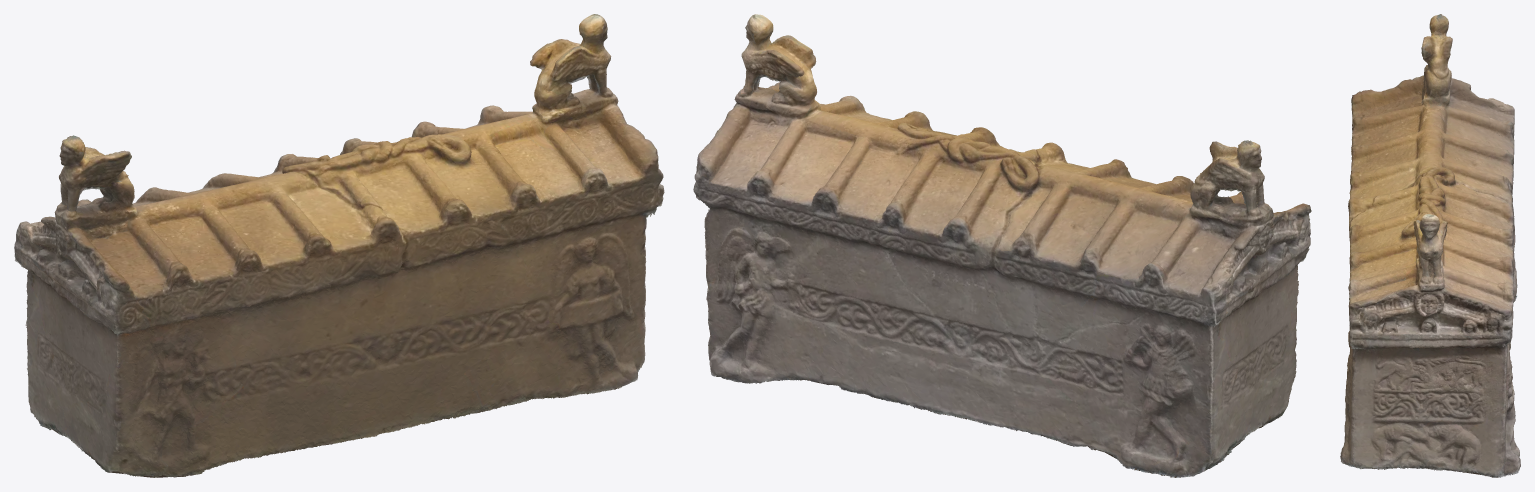
Rendered from preview.glb.
The picture shows the model from 3 angles, left to right: view 1: azimuth 30°, elevation 25°; view 2: azimuth 150°, elevation 25°; view 3: azimuth 270°, elevation 25°; orthographic projection. The views are drawn at different scales.
Parts seen in each view (by area): view 1: Object_2; view 2: Object_2; view 3: Object_2.
Boxes of the visible parts, x1,y1,x2,y2 form: Object_2: (14, 14, 664, 477); Object_2: (693, 14, 1311, 477); Object_2: (1340, 14, 1520, 477).
Bounding box in the file's own units: 7.45 × 4.27 × 2.66.
1 material, 1 textured.
